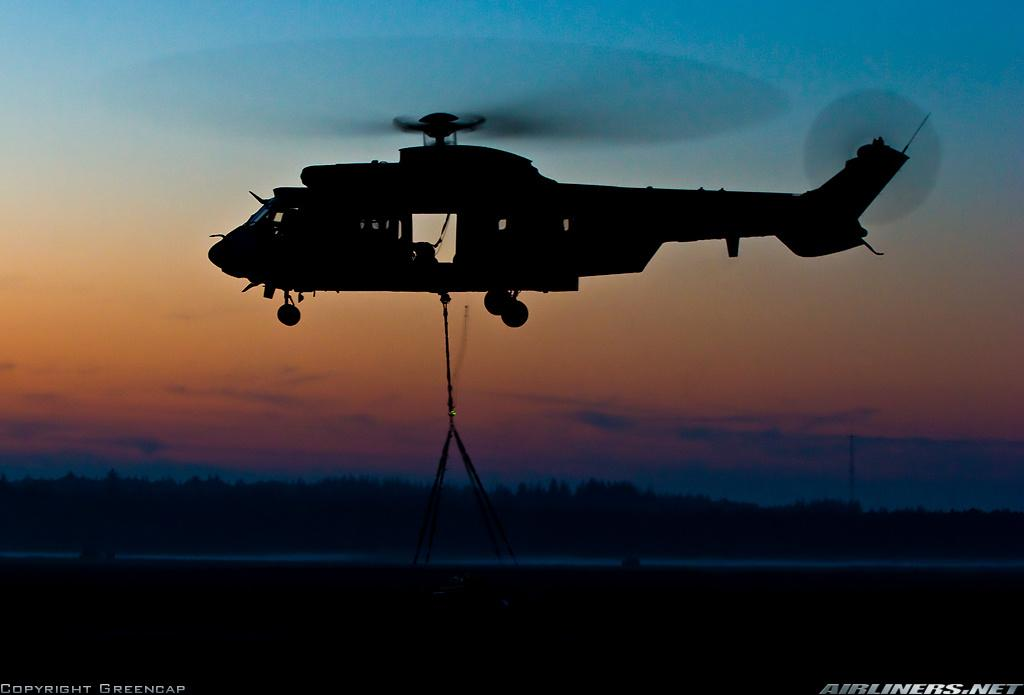airplane: (198, 94, 934, 321)
